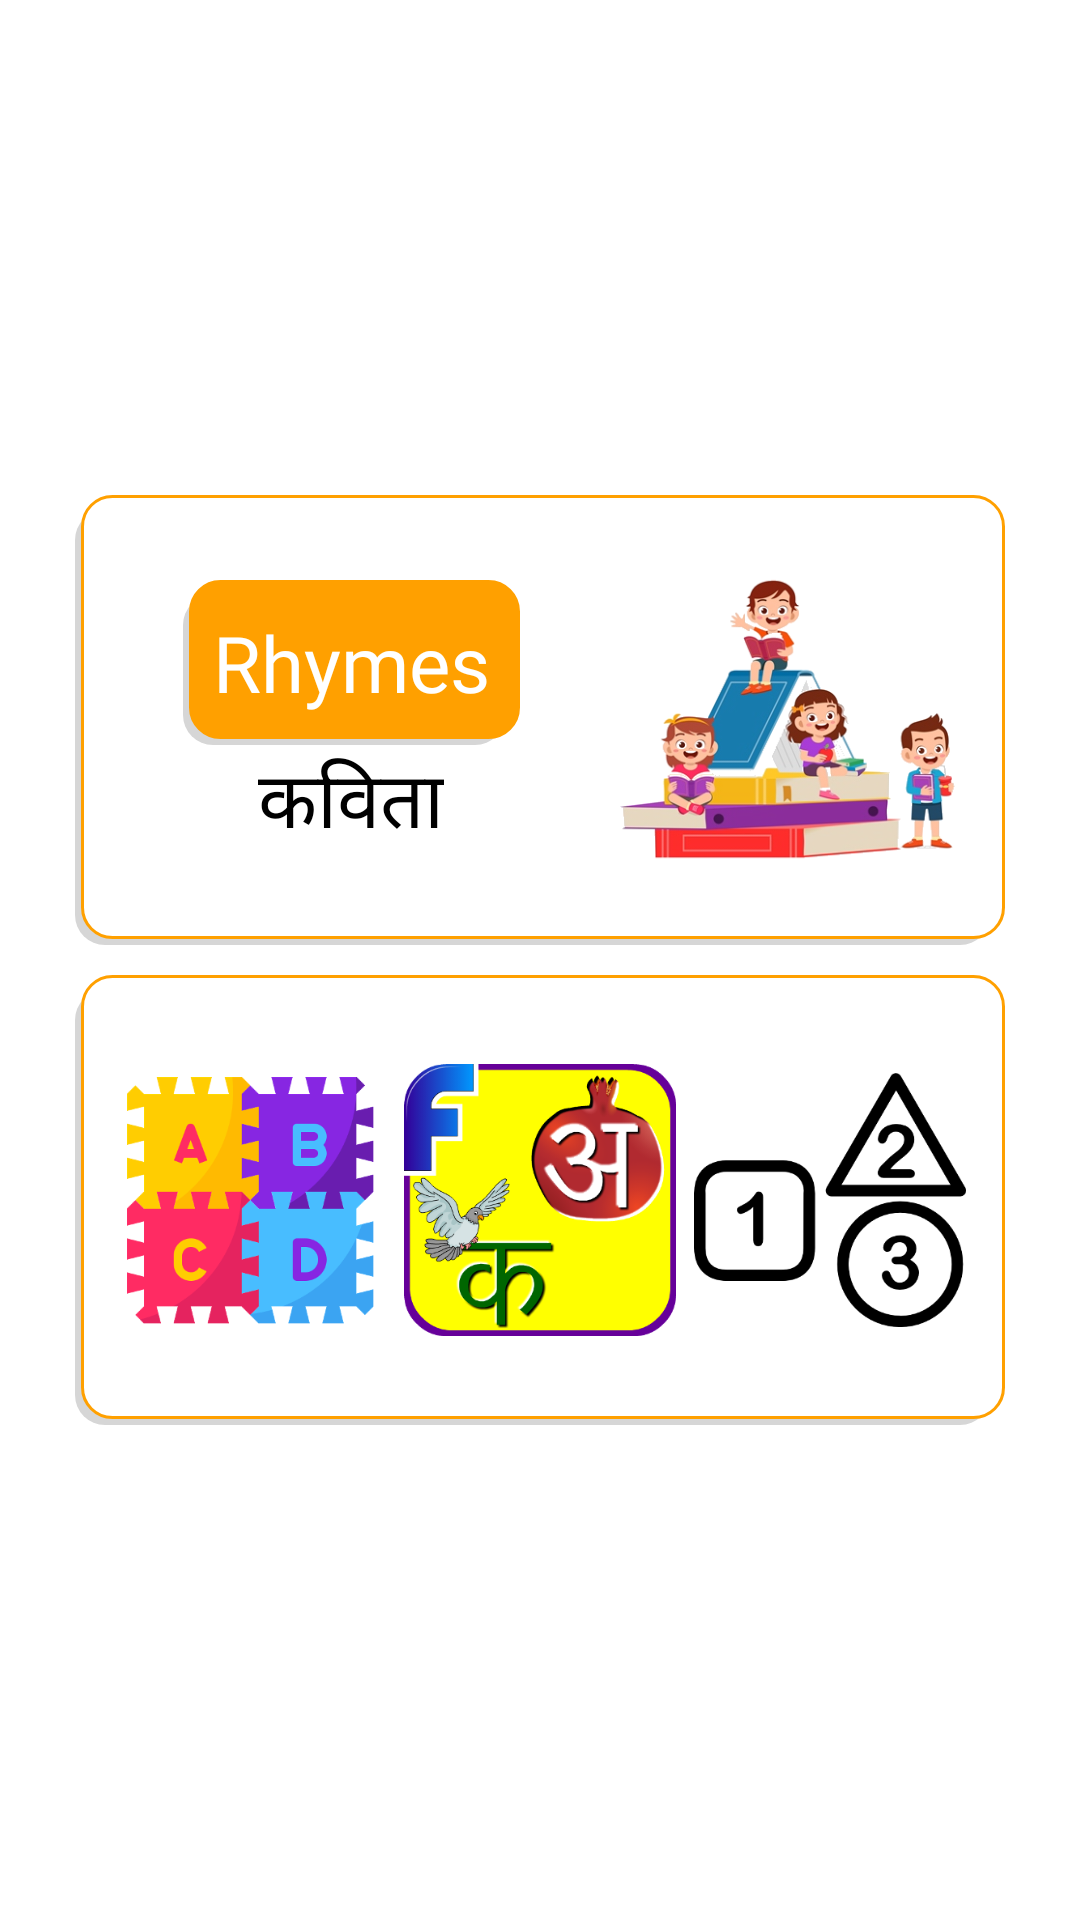

Where icons sit on this 1080px x 1920px app screen, as (x1, y1, x2, y2):
alphabets: (127, 1077, 374, 1324)
number: (694, 1073, 966, 1327)
varnamala: (404, 1064, 676, 1336)
